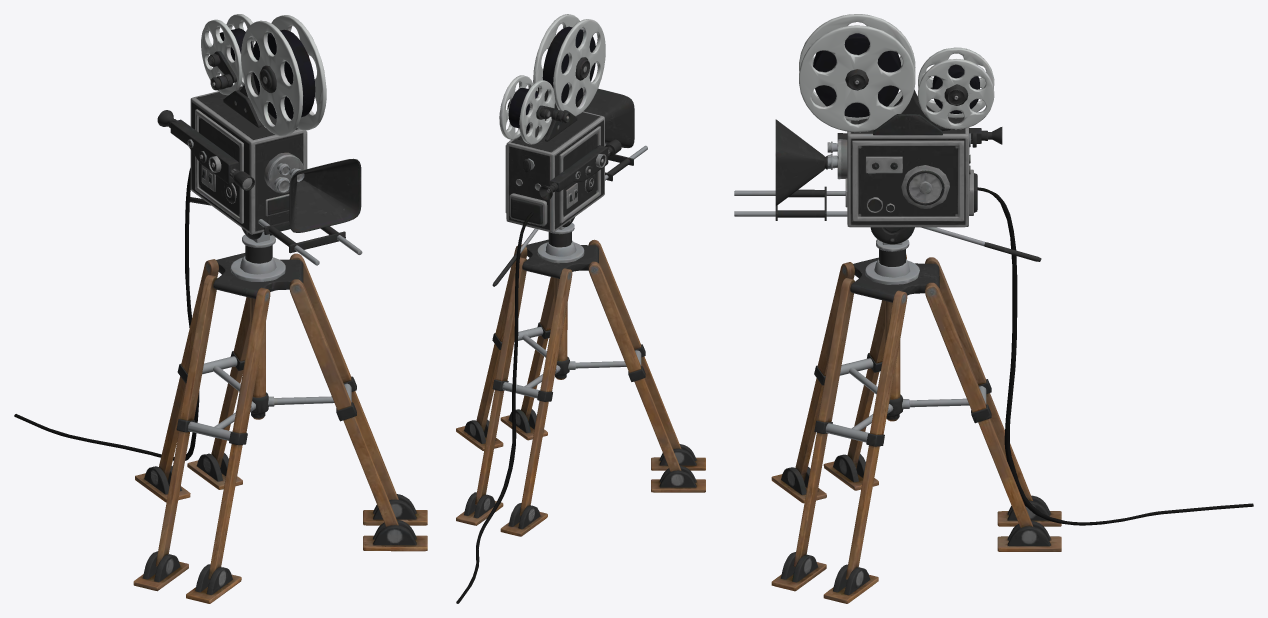
Rendered from camera.glb.
3 views of the same model, side by side, from view 1: azimuth 30°, elevation 25°; view 2: azimuth 150°, elevation 25°; view 3: azimuth 270°, elevation 25° (orthographic). The views are drawn at different scales.
Bounding box in the file's own units: 41.02 × 69.98 × 63.43.
Materials: 1 (1 with a texture image).
